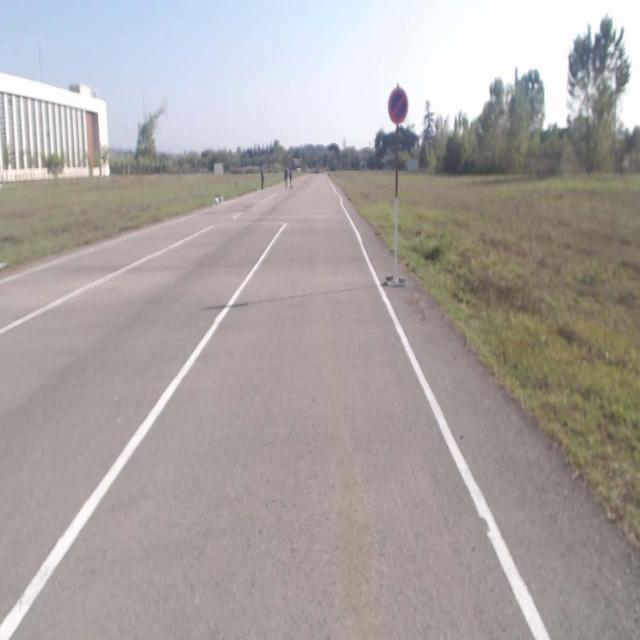parkyasak: (388, 89, 408, 124)
